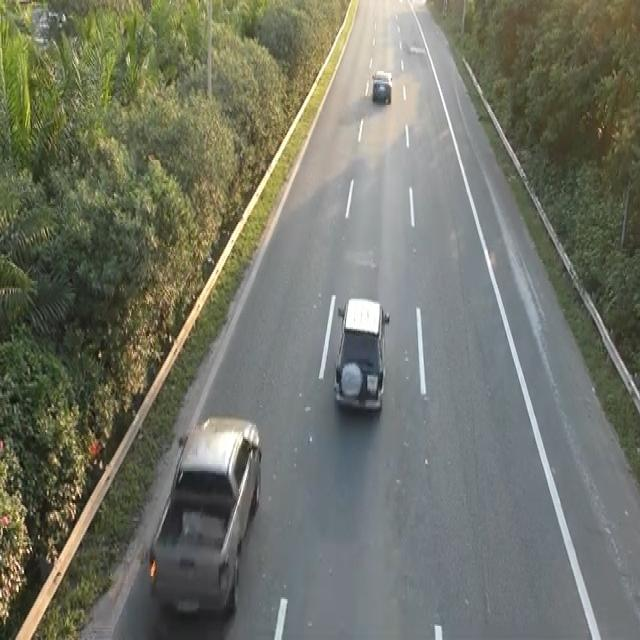car: (146, 411, 263, 617), (332, 293, 391, 416)
